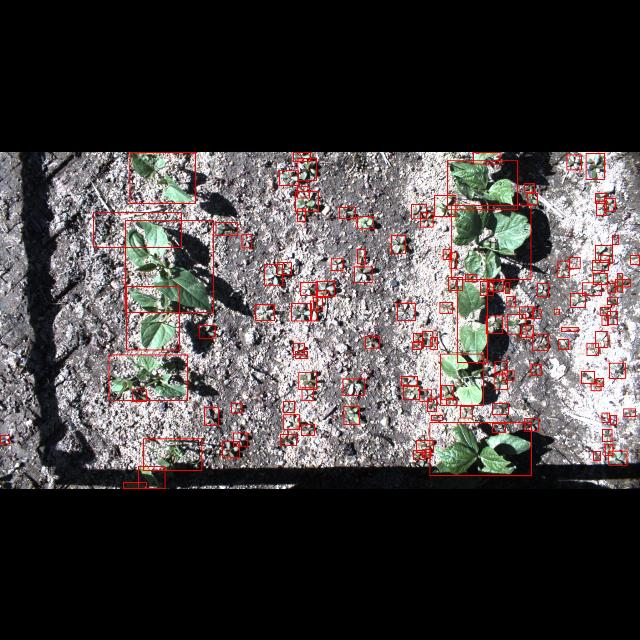crop: (125, 220, 213, 312), (452, 204, 530, 280), (430, 422, 530, 476), (109, 354, 188, 400), (126, 285, 180, 349), (448, 160, 518, 208), (130, 152, 196, 202), (457, 280, 487, 362), (440, 354, 484, 404), (138, 466, 166, 488), (434, 194, 456, 216), (474, 151, 501, 163), (124, 482, 146, 488)
weed: (93, 212, 181, 246), (144, 438, 202, 470), (586, 152, 604, 178), (296, 190, 318, 210), (506, 314, 526, 334), (298, 158, 316, 180), (265, 264, 283, 284), (343, 379, 365, 395), (397, 302, 415, 320), (291, 304, 311, 320), (390, 234, 406, 253), (486, 315, 502, 333), (256, 304, 274, 320), (222, 441, 240, 457), (298, 372, 316, 388), (354, 266, 372, 282), (316, 280, 334, 296), (596, 244, 612, 262), (216, 222, 238, 234), (609, 362, 625, 378), (532, 333, 548, 349), (609, 451, 627, 465), (344, 406, 358, 424), (280, 170, 298, 184), (204, 407, 218, 425), (582, 282, 602, 294), (284, 414, 298, 430), (199, 324, 215, 338), (232, 432, 248, 446), (570, 292, 586, 306), (566, 154, 582, 168), (300, 282, 318, 294), (416, 440, 434, 452), (441, 384, 454, 400), (412, 204, 426, 218), (448, 276, 462, 290), (596, 331, 608, 347), (592, 272, 608, 284), (357, 216, 373, 228), (339, 206, 355, 218), (403, 386, 419, 398), (494, 374, 506, 390), (488, 280, 504, 292), (421, 212, 434, 226), (481, 281, 494, 295), (492, 402, 508, 413), (365, 335, 379, 347), (133, 389, 147, 401), (277, 262, 291, 274), (524, 418, 538, 430), (587, 342, 599, 356), (519, 306, 533, 318), (558, 260, 568, 276), (294, 151, 310, 161), (280, 434, 296, 444), (310, 300, 318, 320), (401, 376, 417, 386), (422, 330, 432, 346), (592, 260, 608, 270), (582, 371, 594, 383), (297, 185, 309, 197), (331, 258, 343, 270), (420, 389, 432, 401), (521, 325, 533, 337), (604, 198, 616, 210), (596, 200, 606, 214), (302, 386, 312, 400), (427, 398, 437, 412), (492, 423, 506, 433), (538, 282, 548, 296), (602, 428, 612, 442), (607, 310, 617, 324), (283, 401, 295, 412), (460, 407, 472, 418), (357, 248, 365, 264), (413, 450, 425, 460), (440, 302, 452, 312), (230, 403, 242, 413), (302, 424, 314, 434), (294, 342, 304, 354), (241, 234, 251, 246), (502, 370, 514, 380), (495, 362, 507, 372), (570, 256, 580, 268), (528, 192, 538, 204), (449, 251, 456, 267), (630, 254, 640, 264), (0, 434, 10, 444), (531, 364, 541, 374), (506, 296, 516, 306), (559, 339, 569, 349), (532, 308, 542, 318), (600, 306, 610, 316), (596, 192, 606, 202), (524, 182, 534, 192), (297, 208, 305, 220), (295, 350, 307, 358), (314, 297, 322, 309), (430, 337, 438, 349), (605, 444, 613, 456), (624, 408, 636, 416), (616, 280, 630, 286), (422, 449, 432, 457), (602, 412, 610, 422), (608, 282, 616, 292), (618, 272, 622, 292), (443, 249, 451, 259), (413, 333, 422, 341), (591, 384, 601, 391), (317, 290, 328, 296), (562, 327, 578, 331), (596, 378, 604, 386), (607, 298, 617, 304), (446, 398, 456, 404), (412, 342, 422, 348), (610, 414, 616, 424), (602, 315, 608, 325), (599, 254, 609, 260), (466, 274, 476, 280), (594, 452, 600, 461), (613, 234, 619, 243), (432, 416, 442, 420), (506, 282, 510, 292), (554, 308, 560, 314)
